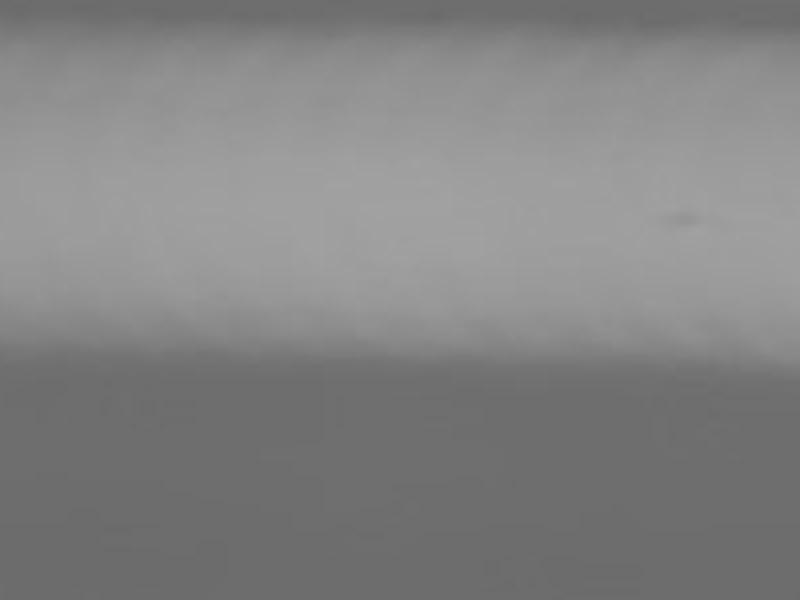defect: (660, 209, 697, 228)
